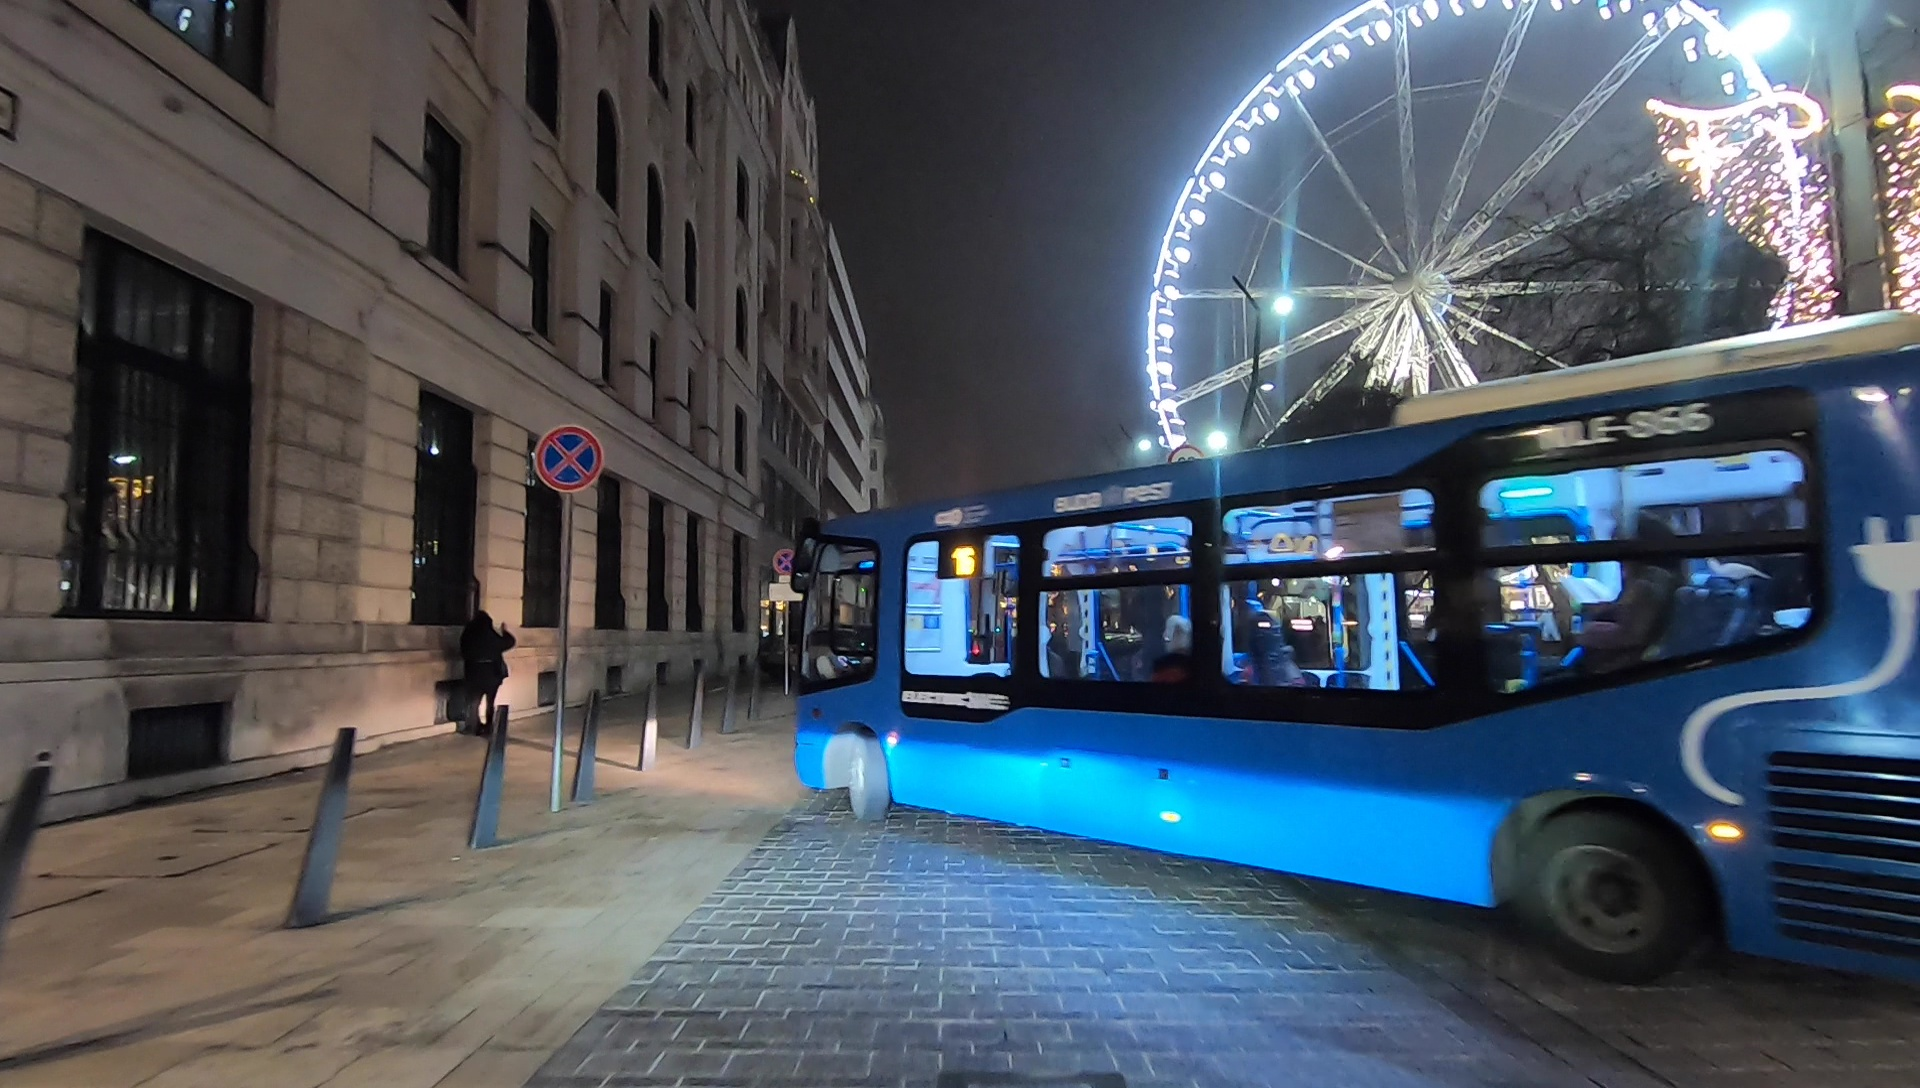person: (464, 610, 515, 732)
